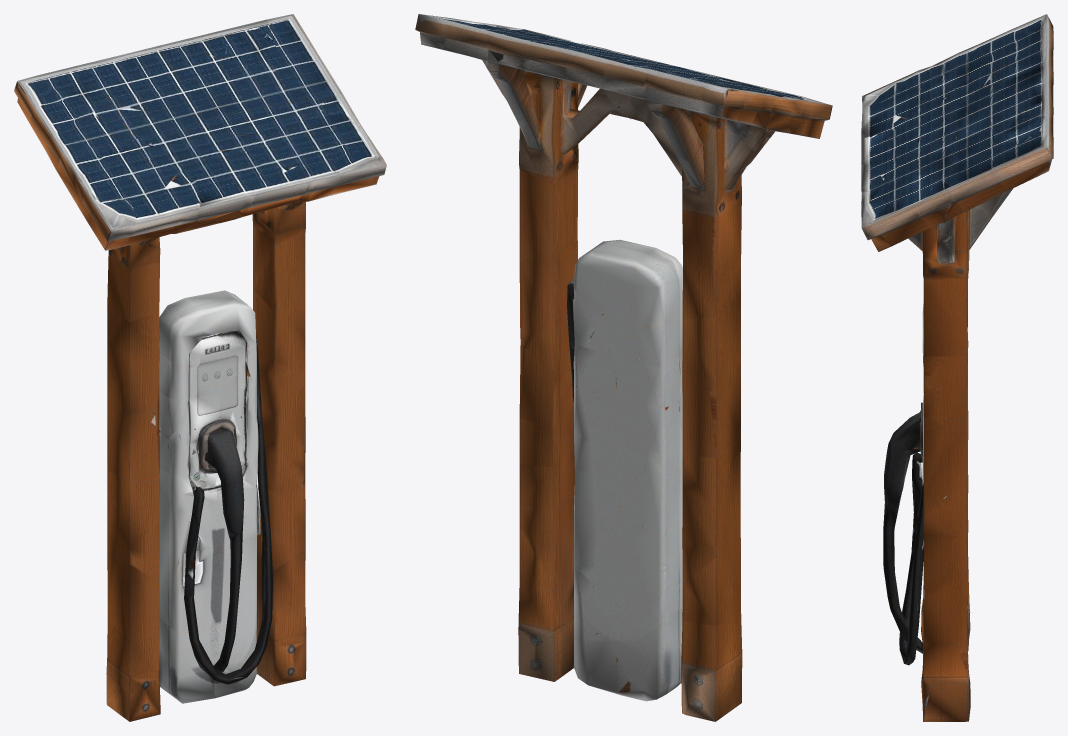
The model's file is evpoint_lod1.glb.
3 views of the same model, side by side, from view 1: azimuth 30°, elevation 25°; view 2: azimuth 150°, elevation 25°; view 3: azimuth 270°, elevation 25° (orthographic). The views are drawn at different scales.
Parts seen in each view (by area): view 1: mesh_node; view 2: mesh_node; view 3: mesh_node.
Boxes of the visible parts, x1,y1,x2,y2 form: mesh_node: [14, 14, 386, 721]; mesh_node: [415, 14, 832, 721]; mesh_node: [861, 14, 1053, 721].
Size of the model in its own units: 0.9079 by 1.9 by 0.5528.
Materials: 1 (1 with a texture image).
